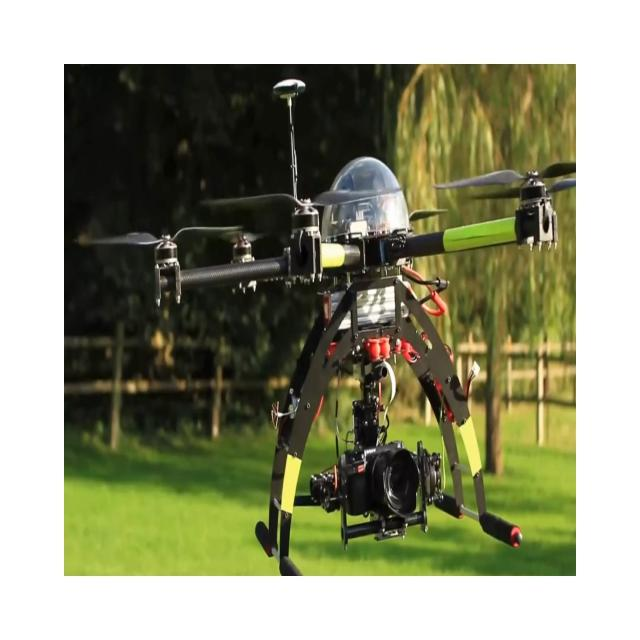drone: (73, 76, 576, 575)
